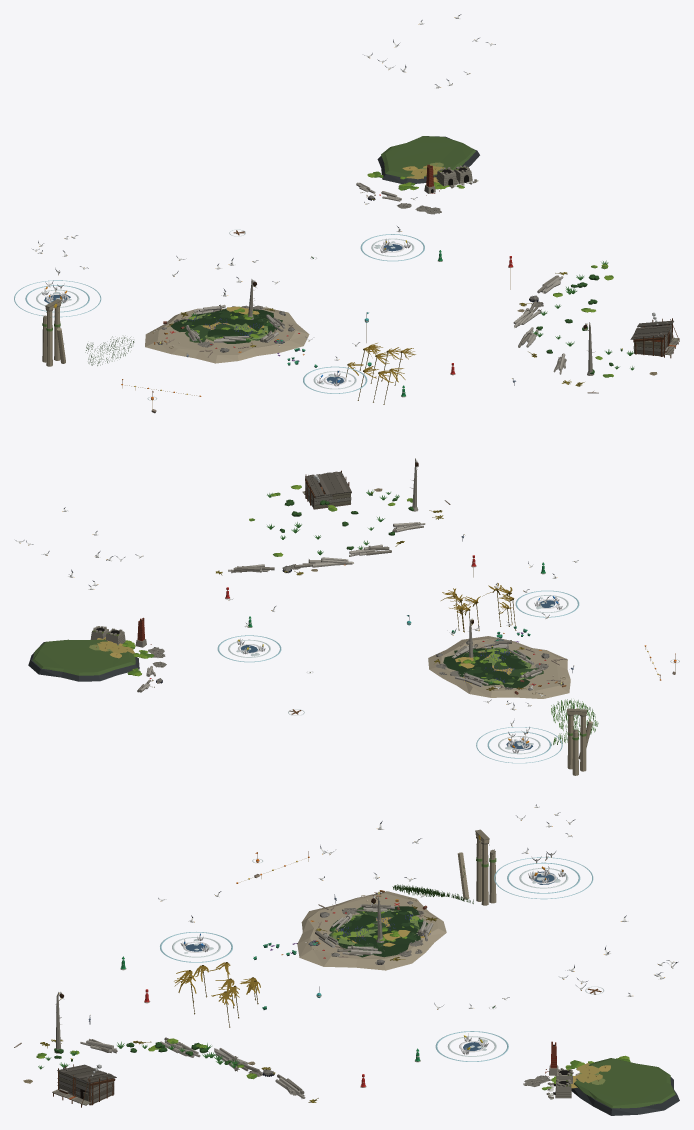
Rendered from chunk_-1_0.glb.
The picture shows the model from 3 angles, top to bottom: view 1: azimuth 30°, elevation 25°; view 2: azimuth 150°, elevation 25°; view 3: azimuth 270°, elevation 25°; orthographic projection. The views are drawn at different scales.
Parts seen in each view (by area): view 1: chunk_-1_0; view 2: chunk_-1_0; view 3: chunk_-1_0.
Boxes of the visible parts, box(x1,y1,x2,y2) form: chunk_-1_0: box(14, 14, 679, 413); chunk_-1_0: box(15, 458, 679, 775); chunk_-1_0: box(14, 804, 679, 1115).
Bounding box in the file's own units: 129 × 43.42 × 130.
